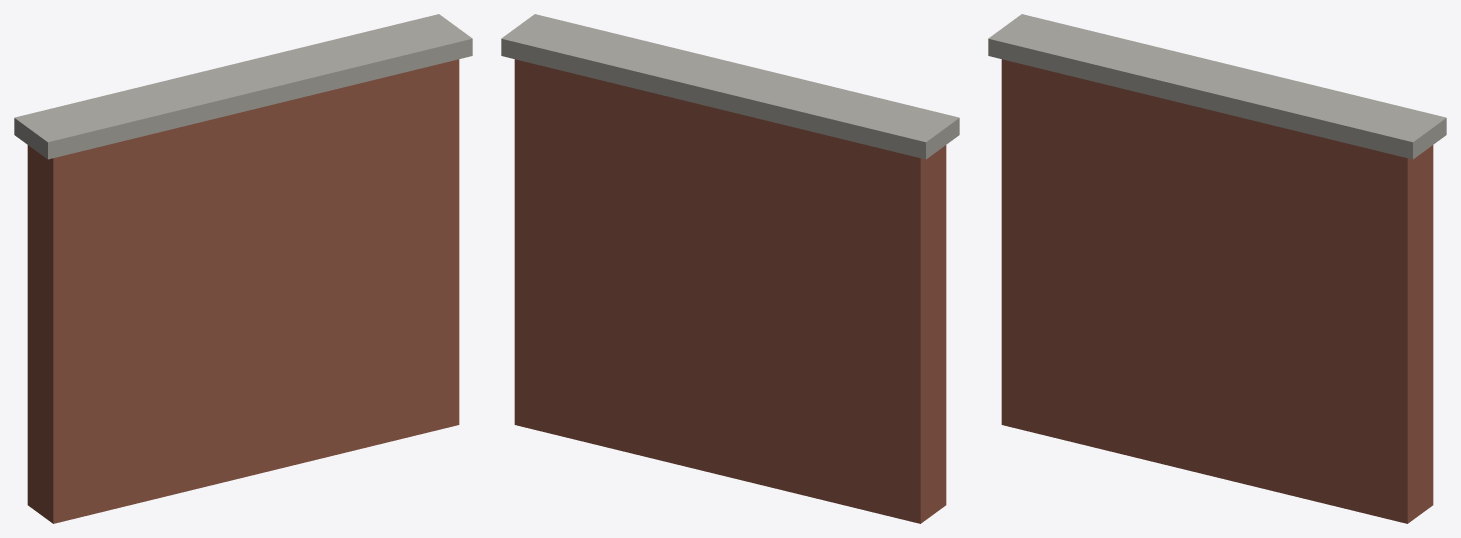
3 views of the same model, side by side, from view 1: azimuth 30°, elevation 25°; view 2: azimuth 150°, elevation 25°; view 3: azimuth 330°, elevation 25° (orthographic).
Visible parts, largest first — view 1: QH-A0101_V01_geometry; view 2: QH-A0101_V01_geometry; view 3: QH-A0101_V01_geometry.
Part boxes in pixels (x1,y1,x2,y2): QH-A0101_V01_geometry: (14,14,472,523); QH-A0101_V01_geometry: (501,14,959,523); QH-A0101_V01_geometry: (988,14,1446,523).
Bounding box in the file's own units: 3.35 × 2.91 × 0.46.
